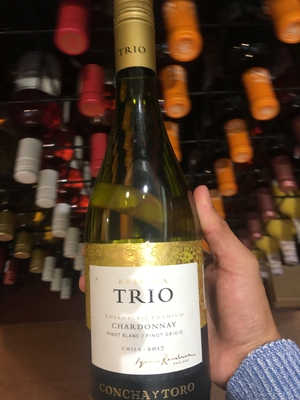trio chardonnay: (67, 31, 224, 400)
